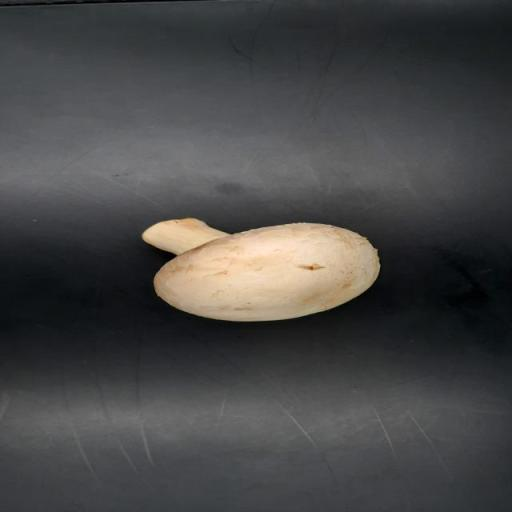mushroom: (142, 219, 382, 328)
